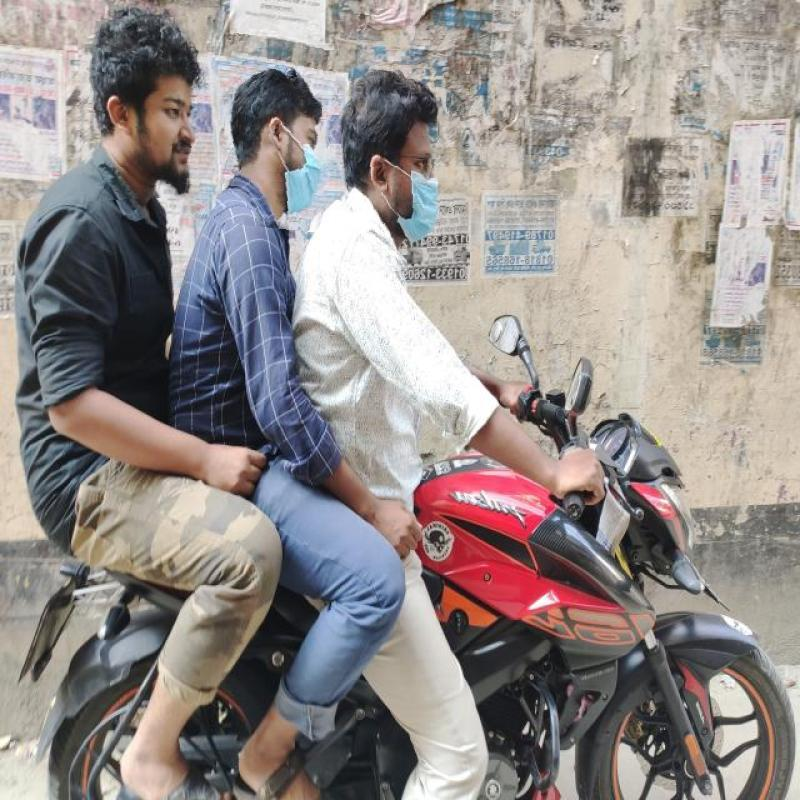nohelmet: (338, 59, 466, 272), (79, 17, 220, 200), (220, 36, 334, 231)
